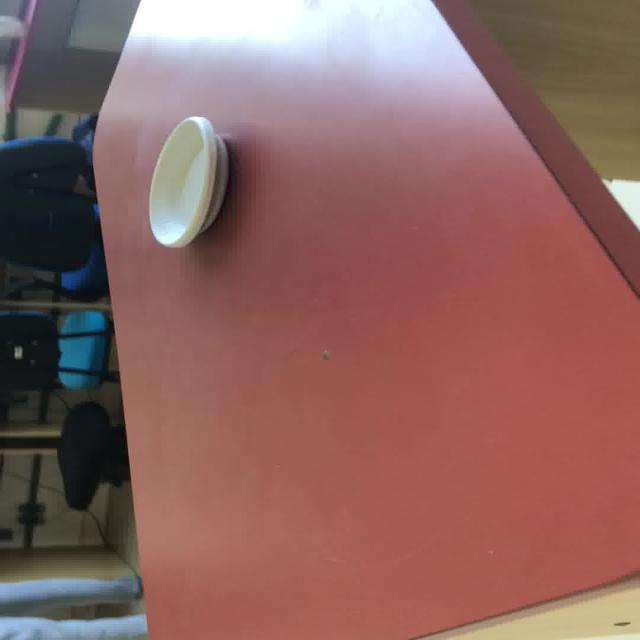plate: (146, 115, 228, 248)
